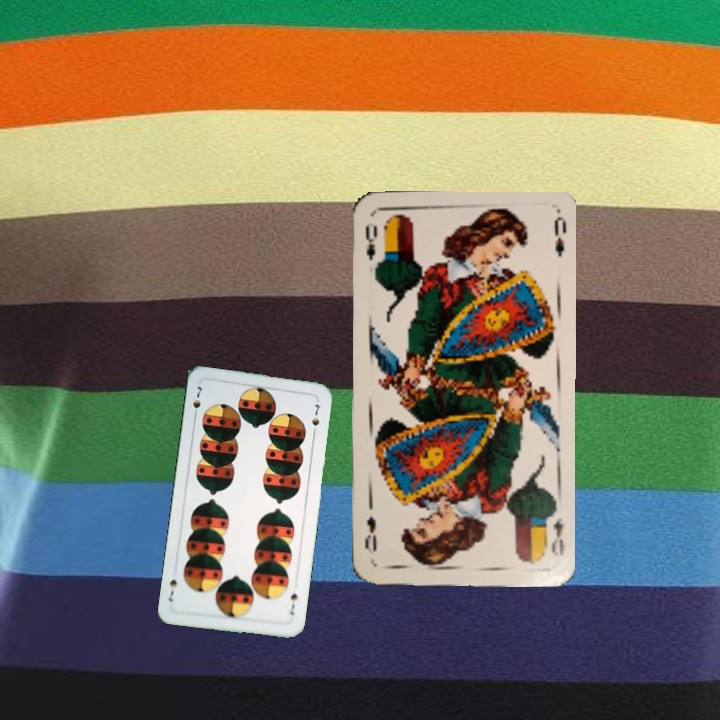EO: (361, 221, 384, 272), (547, 514, 566, 559)
S7: (189, 382, 205, 421), (286, 587, 300, 618)
